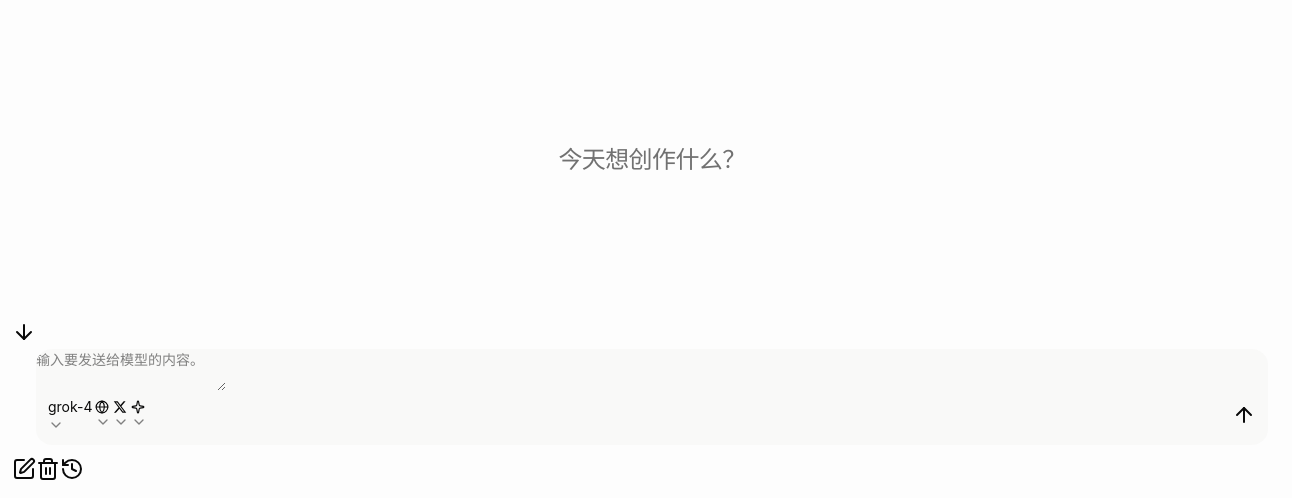
Scenario: 创作台聊天面板 › 工具栏的新会话与清空会话按钮挂在外部插槽上
Type "待清空" into the text box with test id "chat-prompt" at (131, 370), box [36,349,226,391]
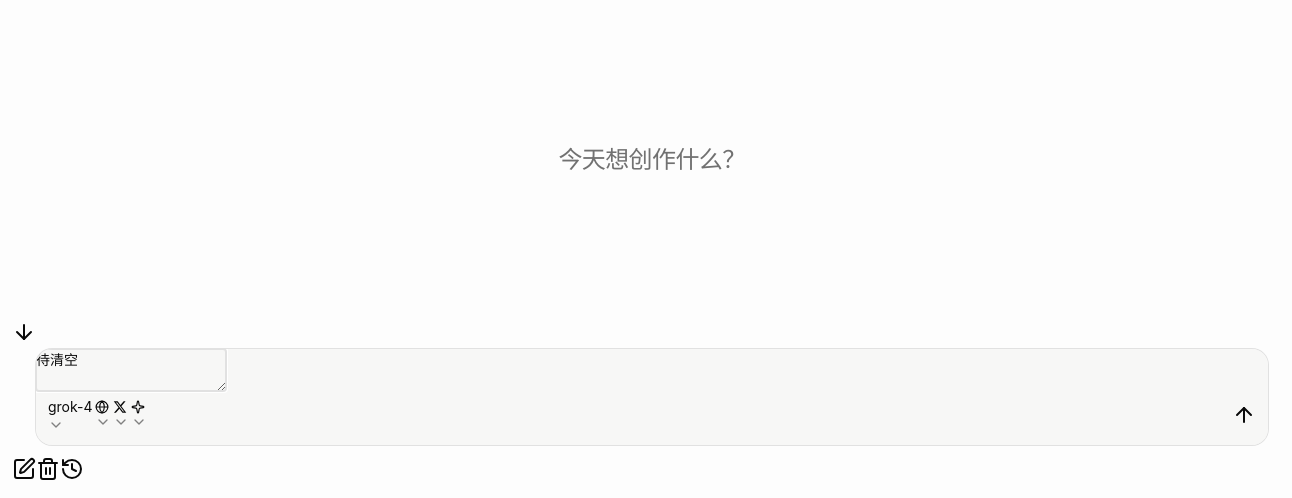
Click the button with test id "chat-send" at (1244, 414), box [1232,402,1256,426]
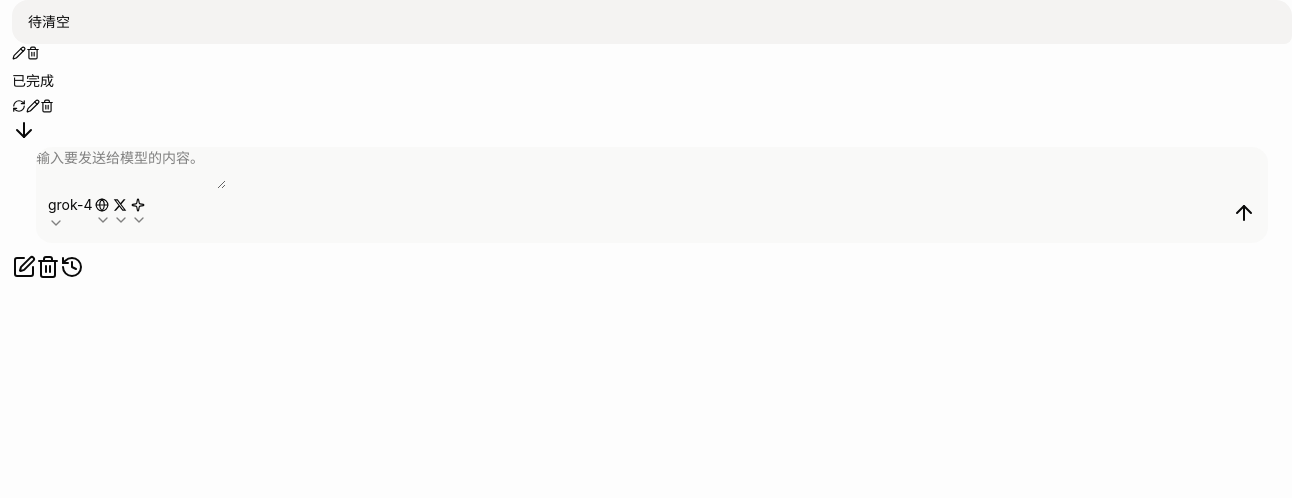
Check: the text "已完成" is shown, box [12,72,54,89]
Click the button with test id "chat-clear-conversation" at (48, 267), box [36,255,60,279]
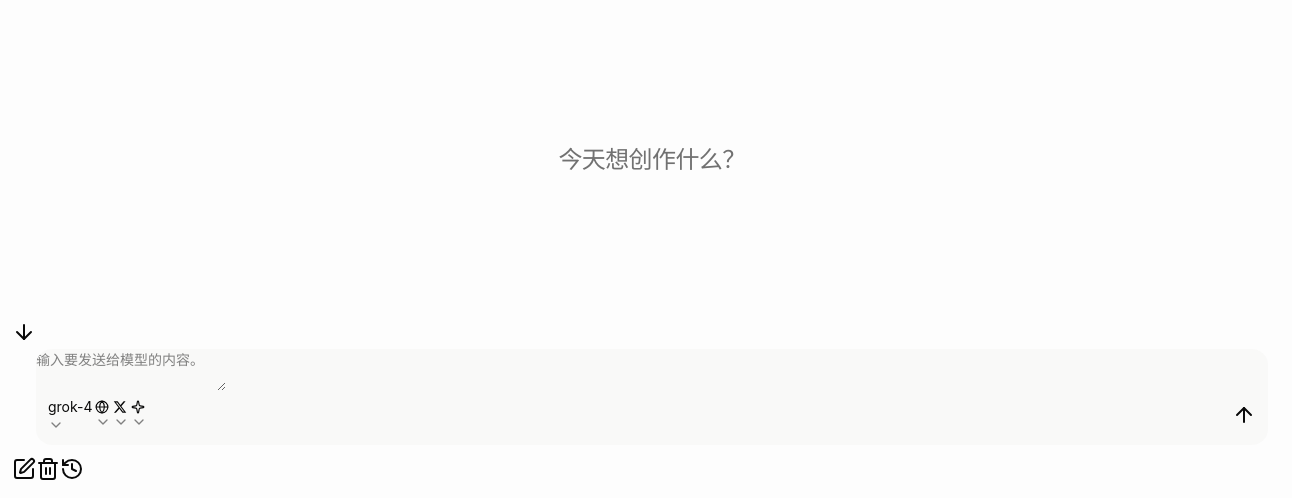
Check: the button with test id "chat-new-conversation" is enabled, box [12,457,36,481]
Check: the text "待清空" is gone
Check: the element with test id "chat-welcome-state" reads "今天想创作什么？", box [558,145,746,174]
